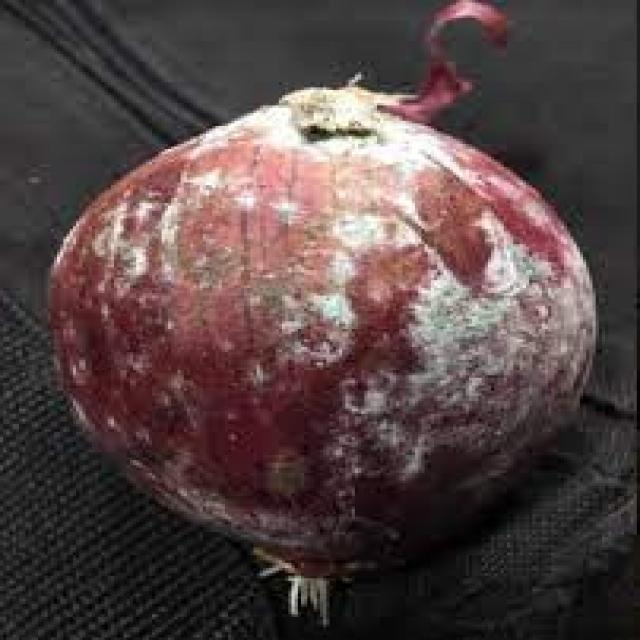Onion: (44, 3, 599, 628)
